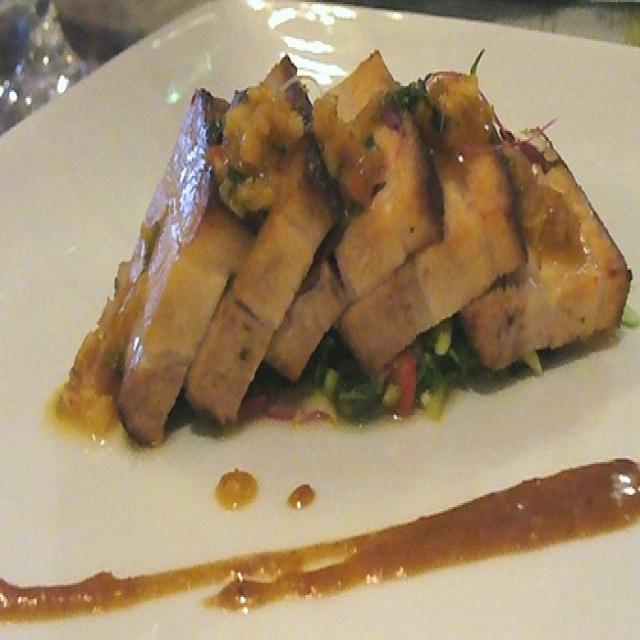牛肉菜式: (72, 22, 599, 476)
